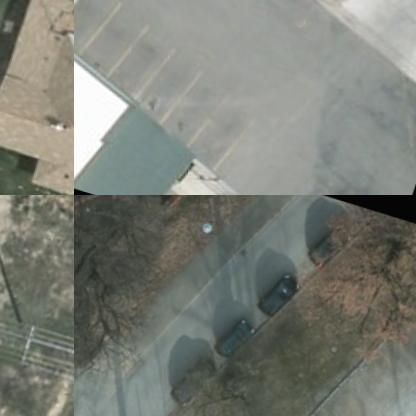car: (305, 210, 359, 273), (256, 266, 300, 318), (215, 312, 258, 362)
